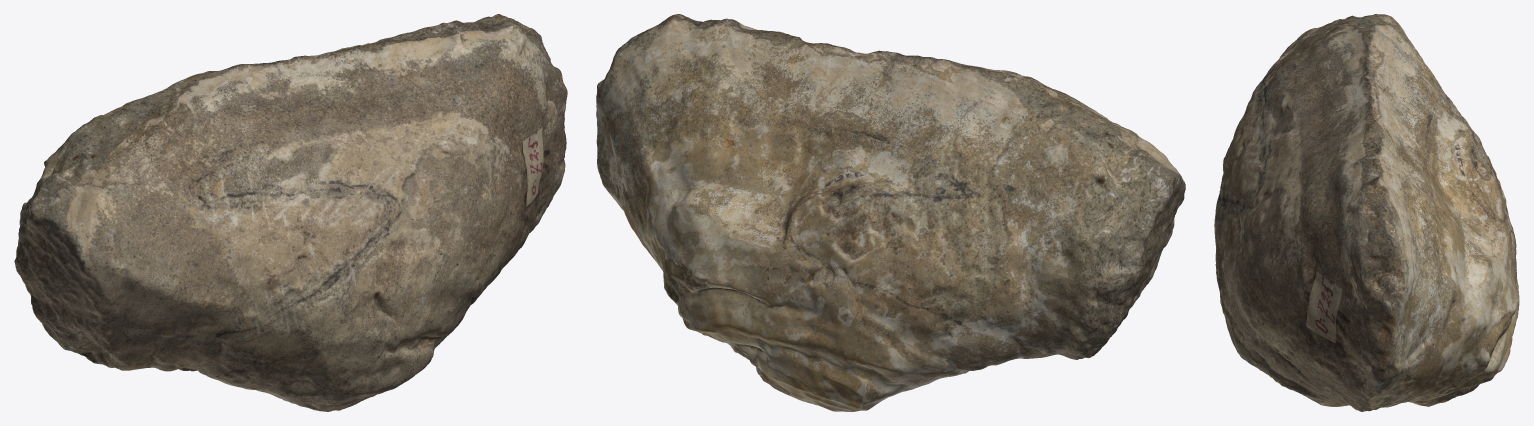
File: EWS0014131.glb
3 views of the same model, side by side, from view 1: azimuth 30°, elevation 25°; view 2: azimuth 150°, elevation 25°; view 3: azimuth 270°, elevation 25° (orthographic). The views are drawn at different scales.
Visible parts, largest first — view 1: input; view 2: input; view 3: input.
Part boxes in pixels (x1,y1,x2,y2): input: (14, 14, 567, 411); input: (596, 14, 1185, 411); input: (1214, 14, 1519, 411).
Size of the model in its own units: 0.0895 by 0.0527 by 0.0464.
1 material, 1 textured.
